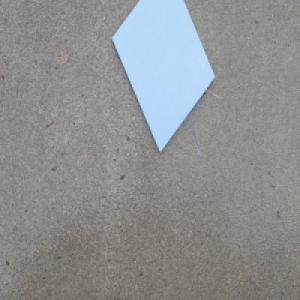PaintChip: (111, 0, 216, 155)
